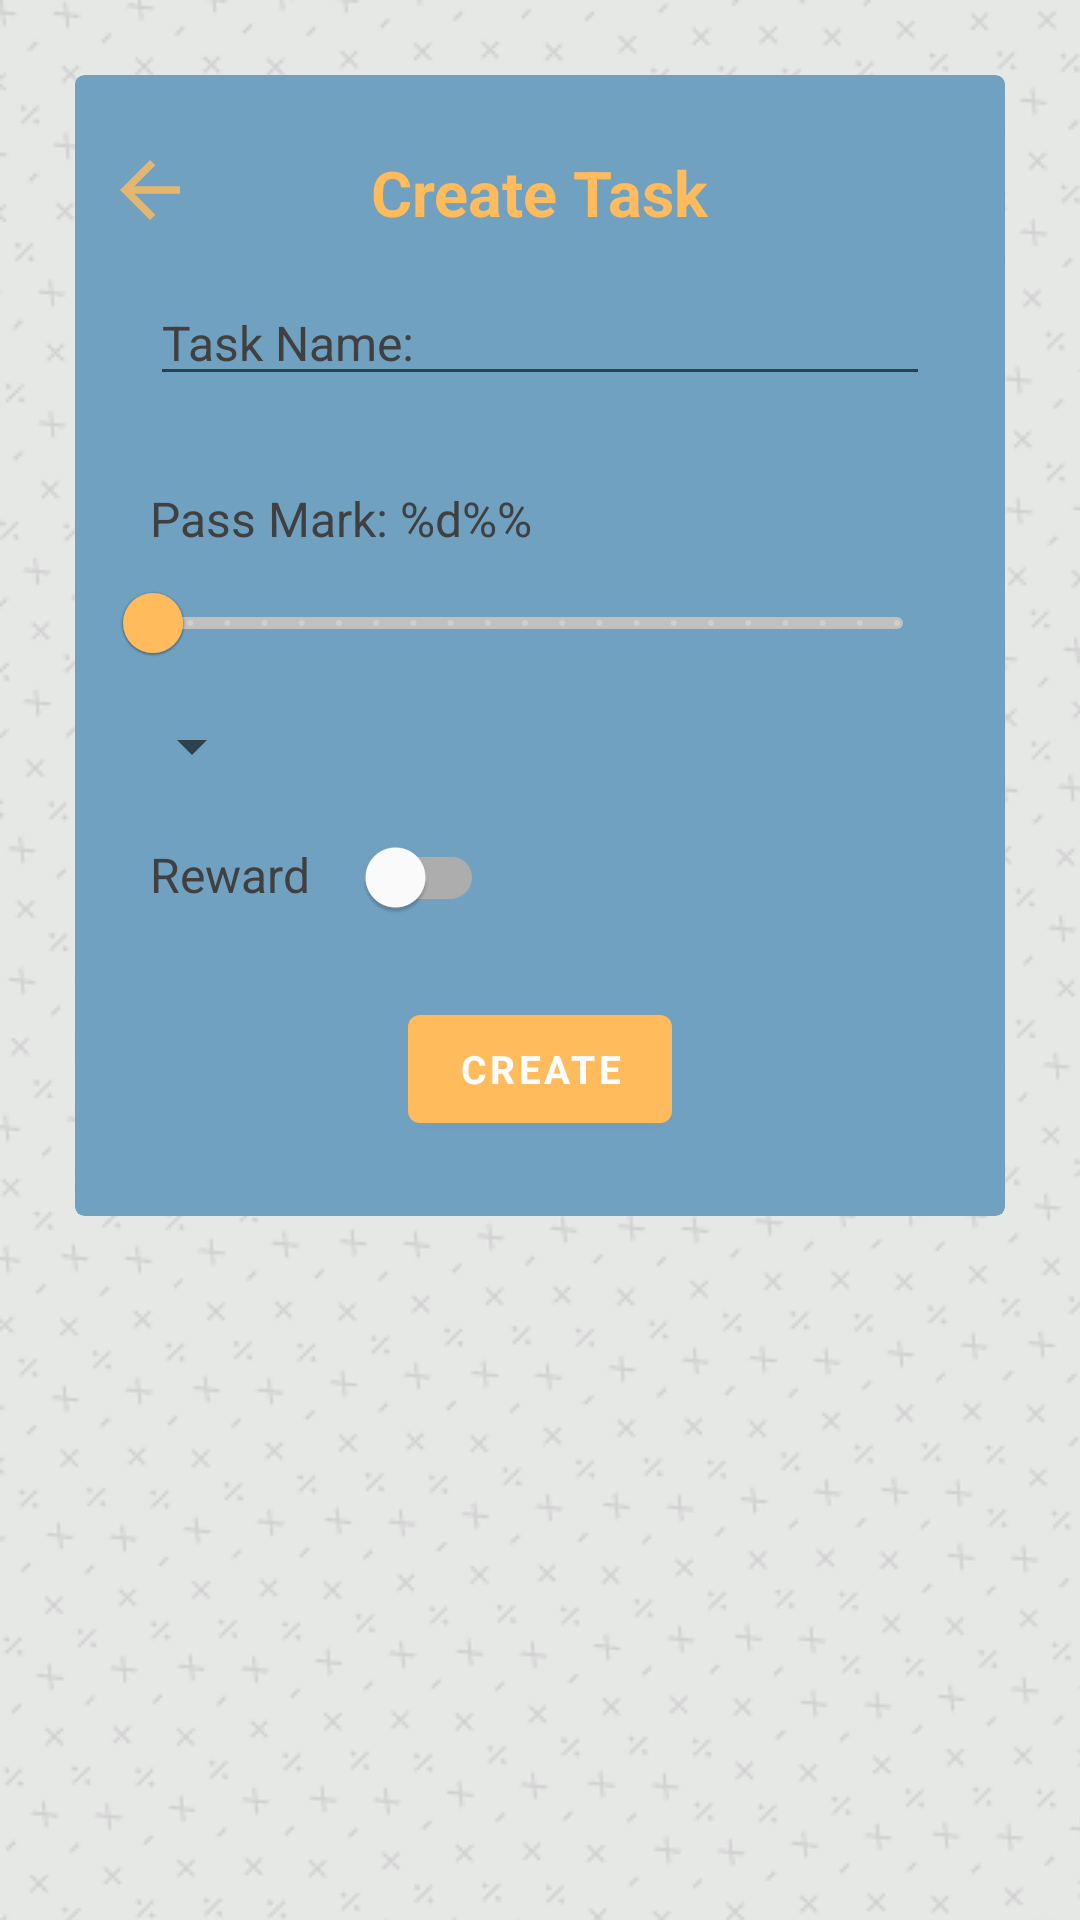

Locate icon controls on the screen. Image size 1080px x 1920px, boxes as (x1, y1, x2, y2).
Back: (120, 160, 180, 220)
